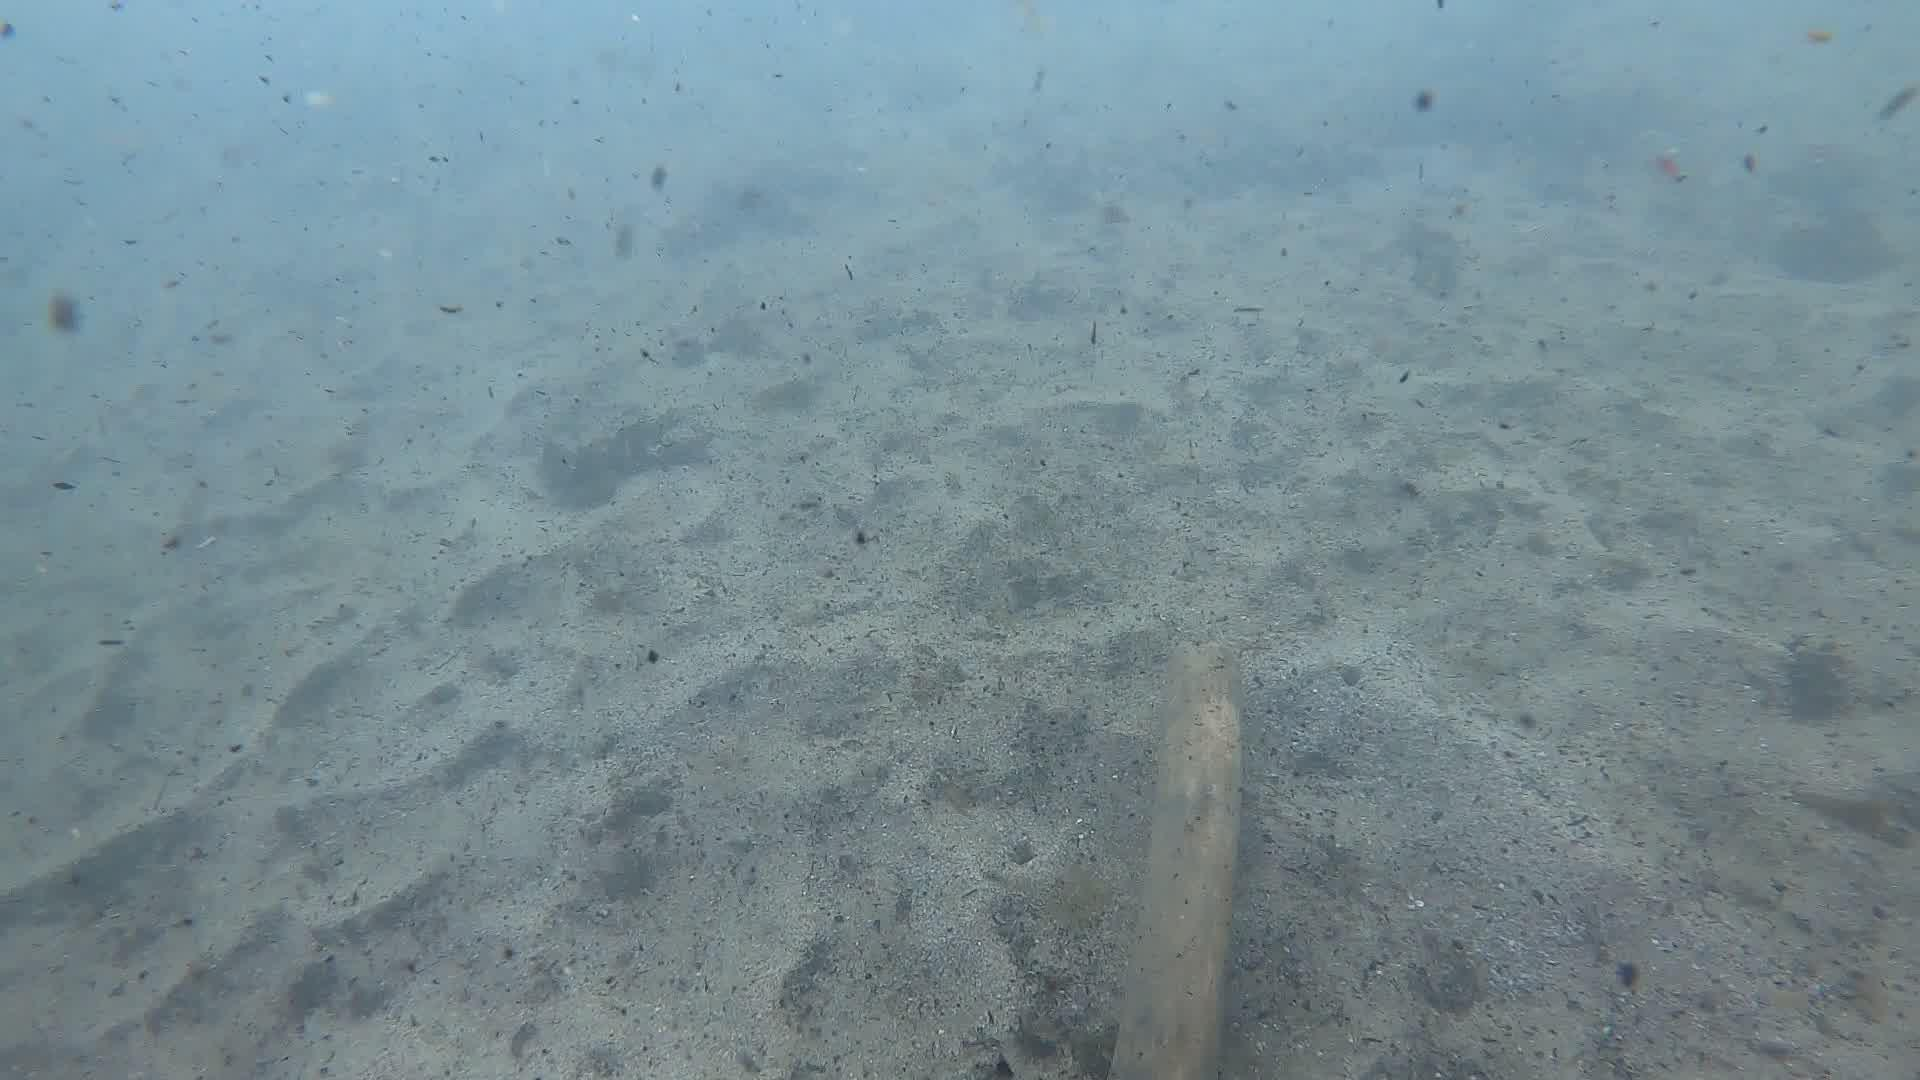wood: (1101, 645, 1240, 1080)
